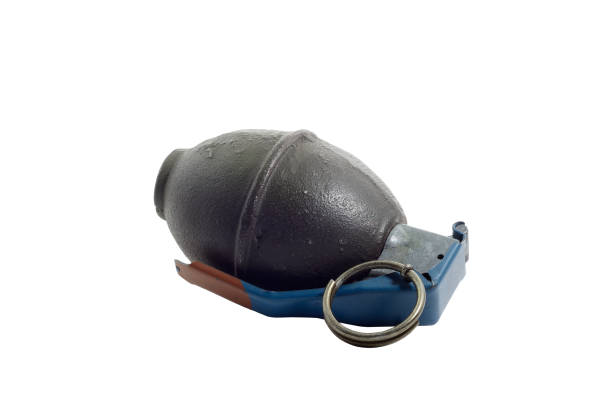e1: (150, 125, 475, 347)
